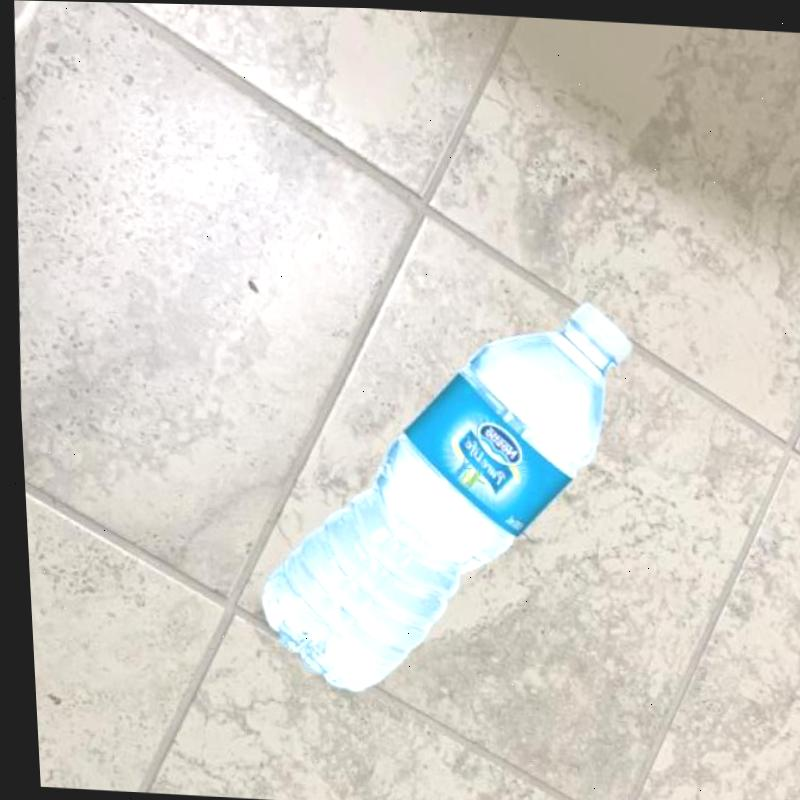botella: (240, 280, 645, 712)
